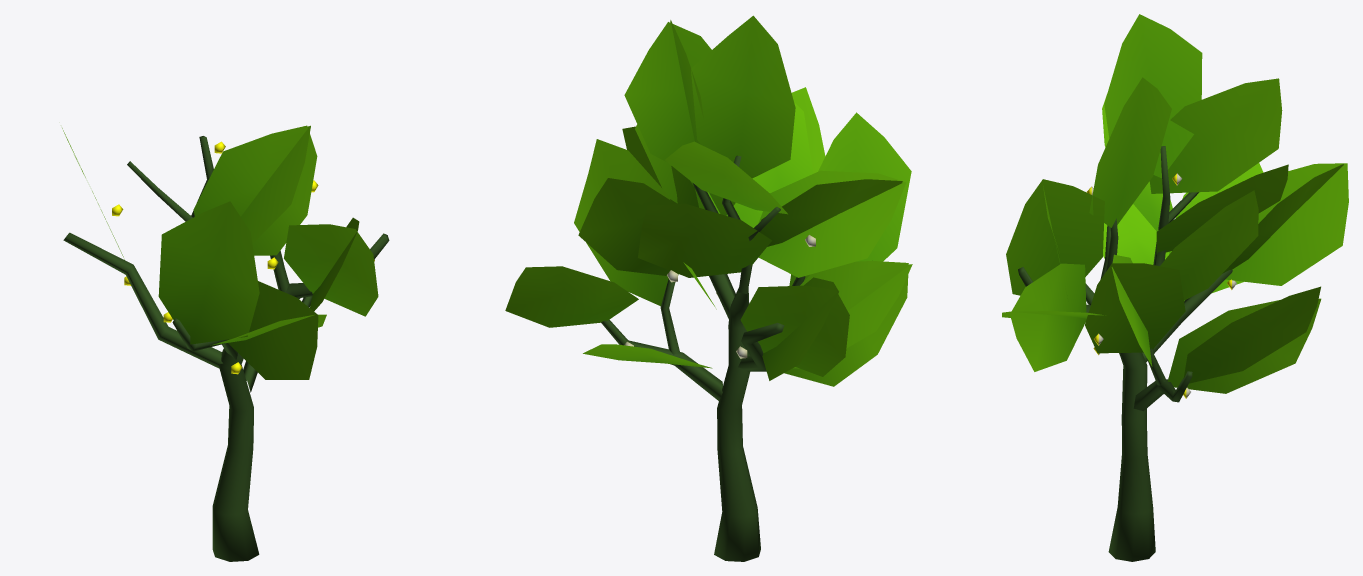
Rendered from Tree01Night.glb.
3 views of the same model, side by side, from view 1: azimuth 30°, elevation 25°; view 2: azimuth 150°, elevation 25°; view 3: azimuth 270°, elevation 25° (orthographic). The views are drawn at different scales.
Visible parts, largest first — view 1: Tree01Night; view 2: Tree01Night; view 3: Tree01Night.
Boxes of the visible parts, box(x1,y1,x2,y2) form: Tree01Night: box(62, 125, 389, 561); Tree01Night: box(505, 15, 912, 561); Tree01Night: box(1002, 14, 1348, 561).
Bounding box in the file's own units: 7.68 × 11.65 × 8.16.
2 materials, 1 textured.
